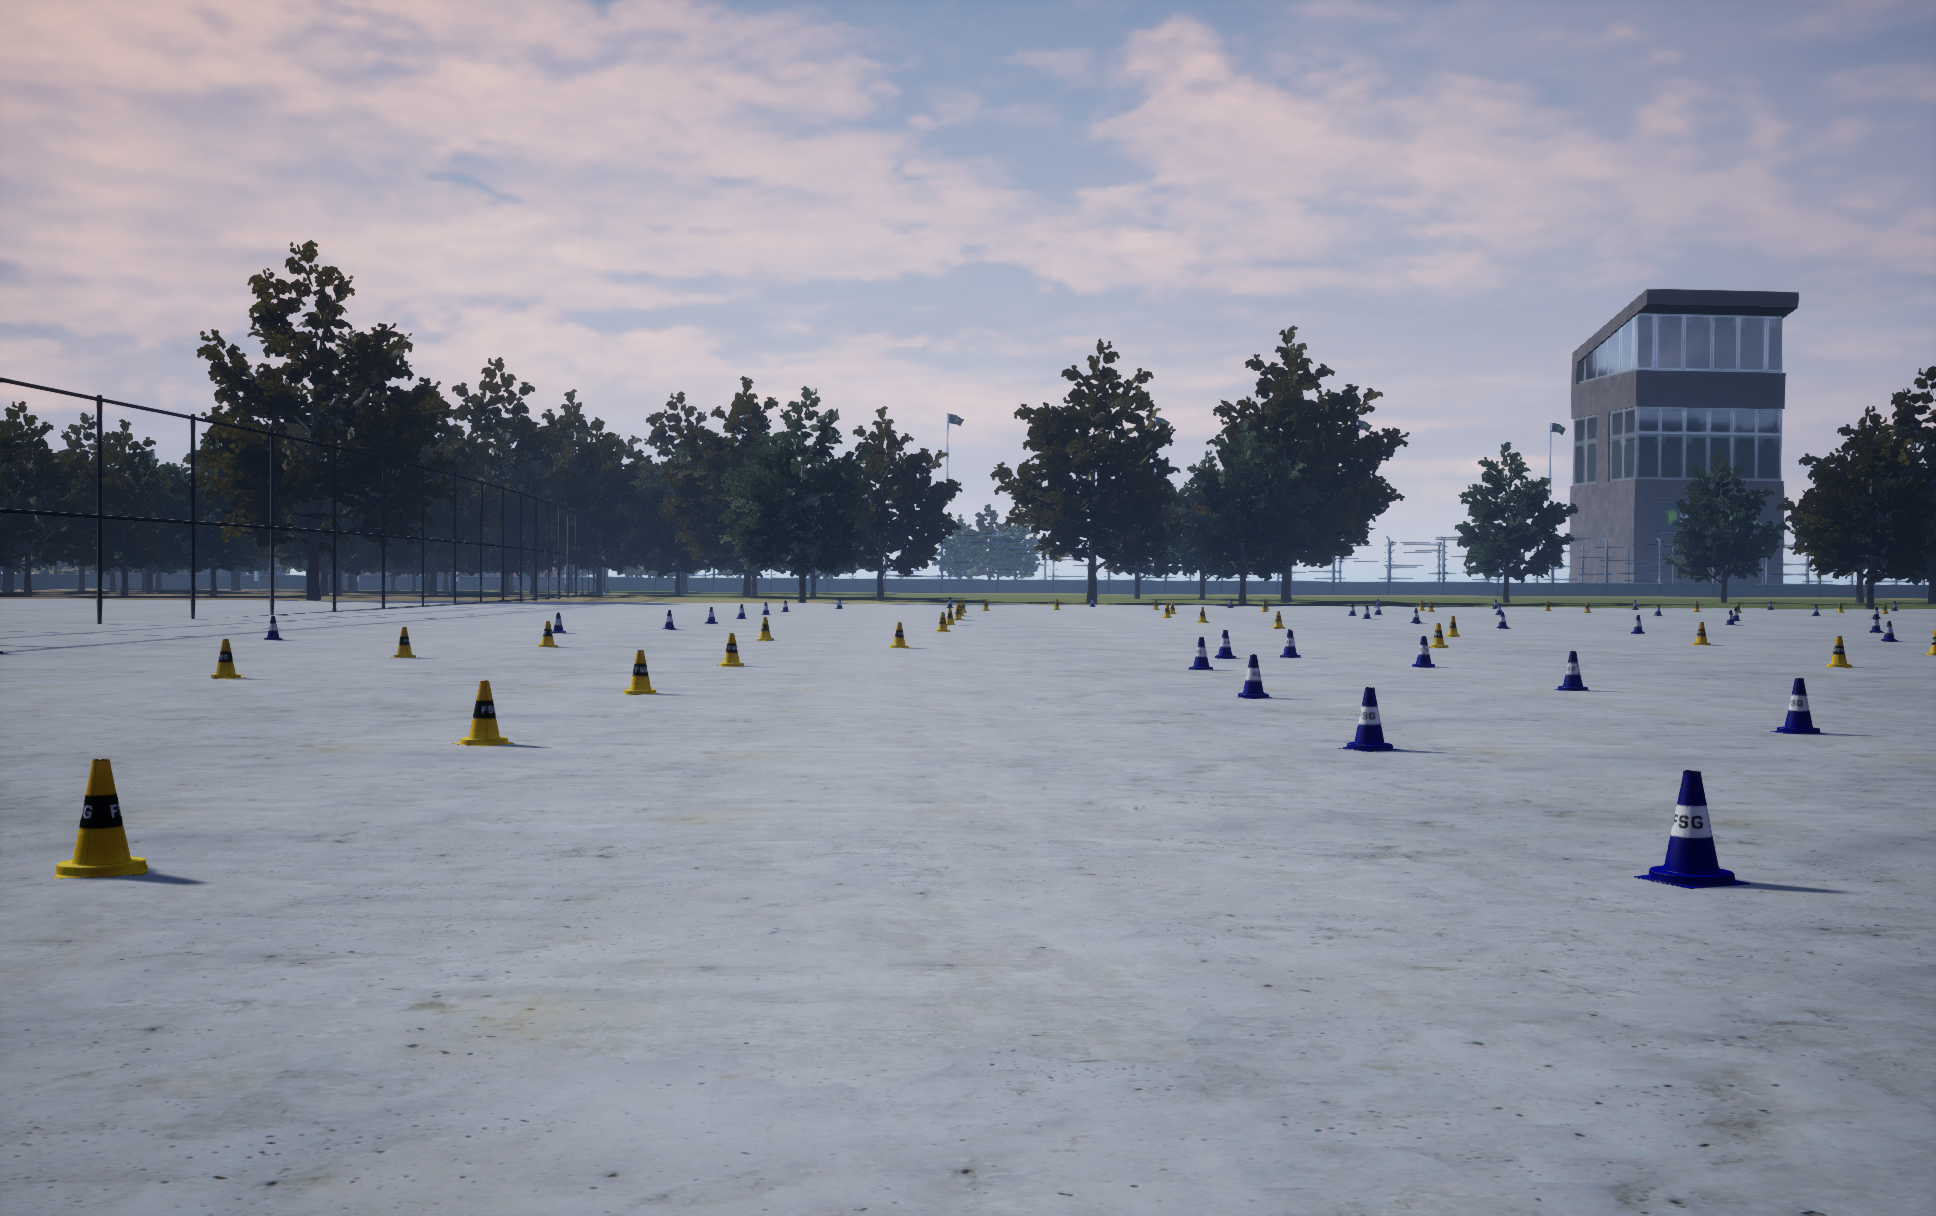blue: (55, 759, 147, 878), (451, 679, 513, 745), (622, 650, 658, 693), (212, 639, 245, 678), (716, 633, 742, 665), (389, 628, 417, 657), (1825, 636, 1851, 667), (1427, 623, 1448, 647), (538, 621, 558, 646), (890, 622, 908, 647), (1692, 622, 1710, 644), (756, 616, 773, 640), (936, 612, 950, 630), (1446, 616, 1458, 636)
yellow: (1633, 771, 1750, 888), (1338, 686, 1399, 751), (1771, 678, 1824, 733), (1236, 654, 1271, 698), (1554, 651, 1589, 691), (1188, 637, 1212, 670), (1412, 636, 1434, 667), (1215, 630, 1238, 658), (1280, 629, 1301, 657), (263, 616, 282, 639), (1881, 621, 1900, 642), (1631, 615, 1645, 633), (552, 612, 565, 632), (663, 609, 675, 629)
